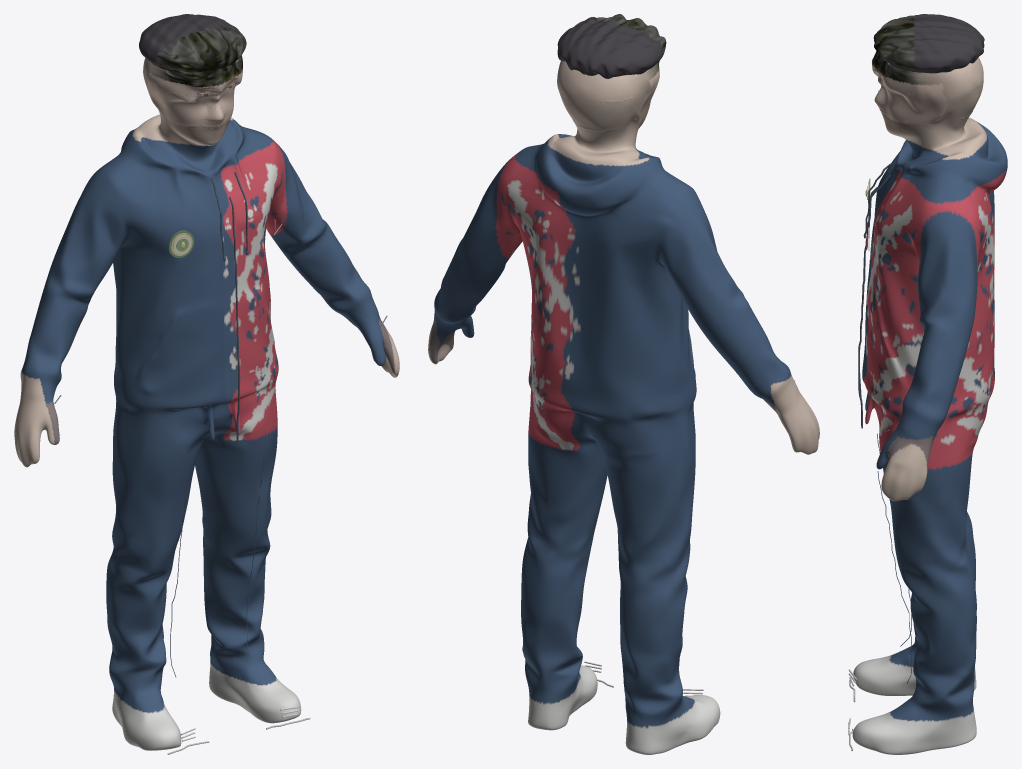
The model's file is nico.glb.
3 renders of one model, left to right at view 1: azimuth 30°, elevation 25°; view 2: azimuth 150°, elevation 25°; view 3: azimuth 270°, elevation 25°, orthographic.
Visible parts, largest first — view 1: Nico_body_clothing_vertex_color, photo_colored_wavy_hair_volume; view 2: Nico_body_clothing_vertex_color, photo_colored_wavy_hair_volume; view 3: Nico_body_clothing_vertex_color, photo_colored_wavy_hair_volume, hoodie_center_zipper.
Boxes of the visible parts, <box> form: Nico_body_clothing_vertex_color: <box>14,55,399,750</box>; photo_colored_wavy_hair_volume: <box>139,14,246,72</box>; Nico_body_clothing_vertex_color: <box>428,61,819,754</box>; photo_colored_wavy_hair_volume: <box>557,14,666,78</box>; Nico_body_clothing_vertex_color: <box>852,51,1007,754</box>; photo_colored_wavy_hair_volume: <box>873,14,984,73</box>; hoodie_center_zipper: <box>858,186,878,428</box>.
Size of the model in its own units: 1.14 by 1.99 by 0.4146.
